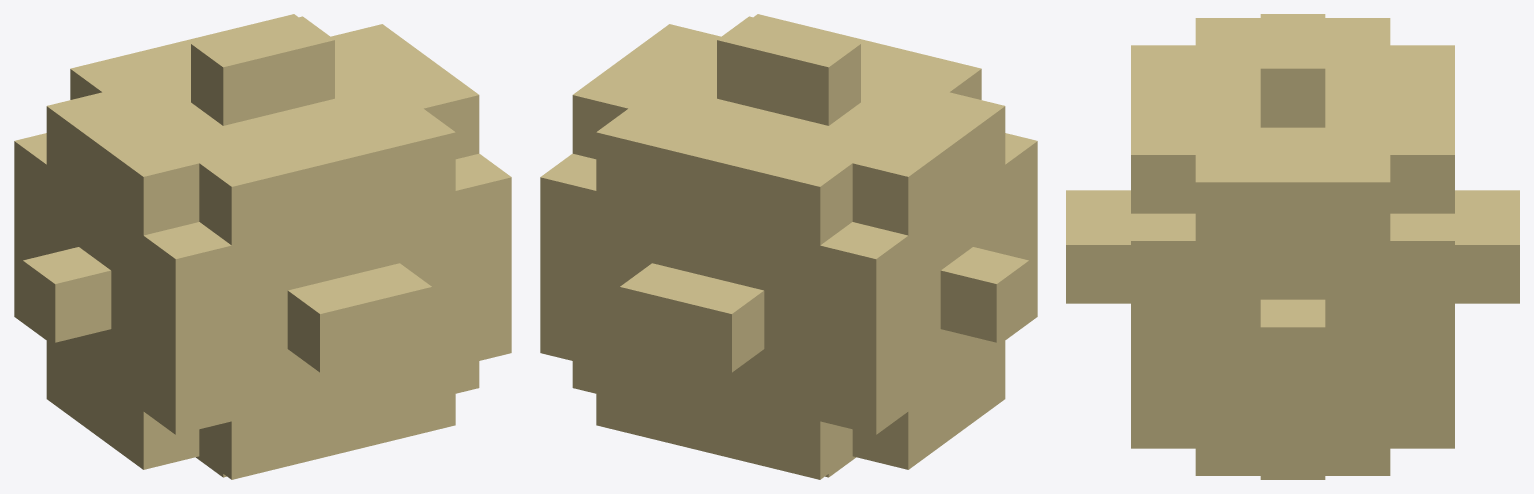
Rendered from heart.glb.
3 views of the same model, side by side, from view 1: azimuth 30°, elevation 25°; view 2: azimuth 150°, elevation 25°; view 3: azimuth 270°, elevation 25° (orthographic).
Size of the model in its own units: 8 by 7 by 7.
